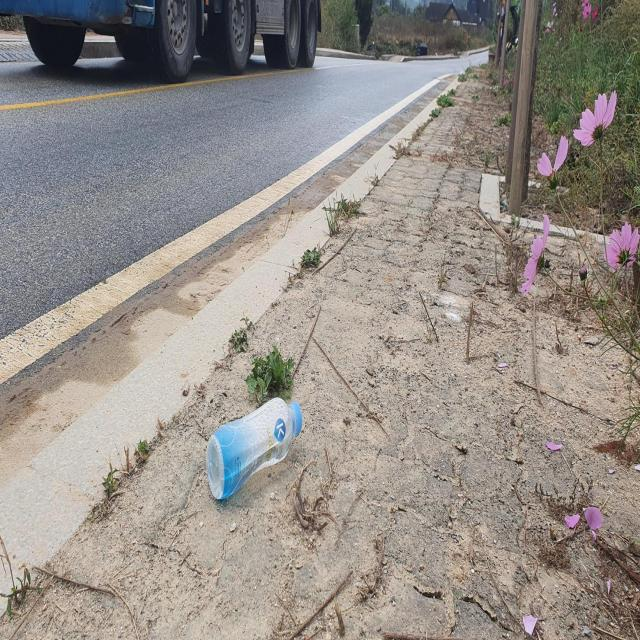plastic: (206, 397, 302, 499)
